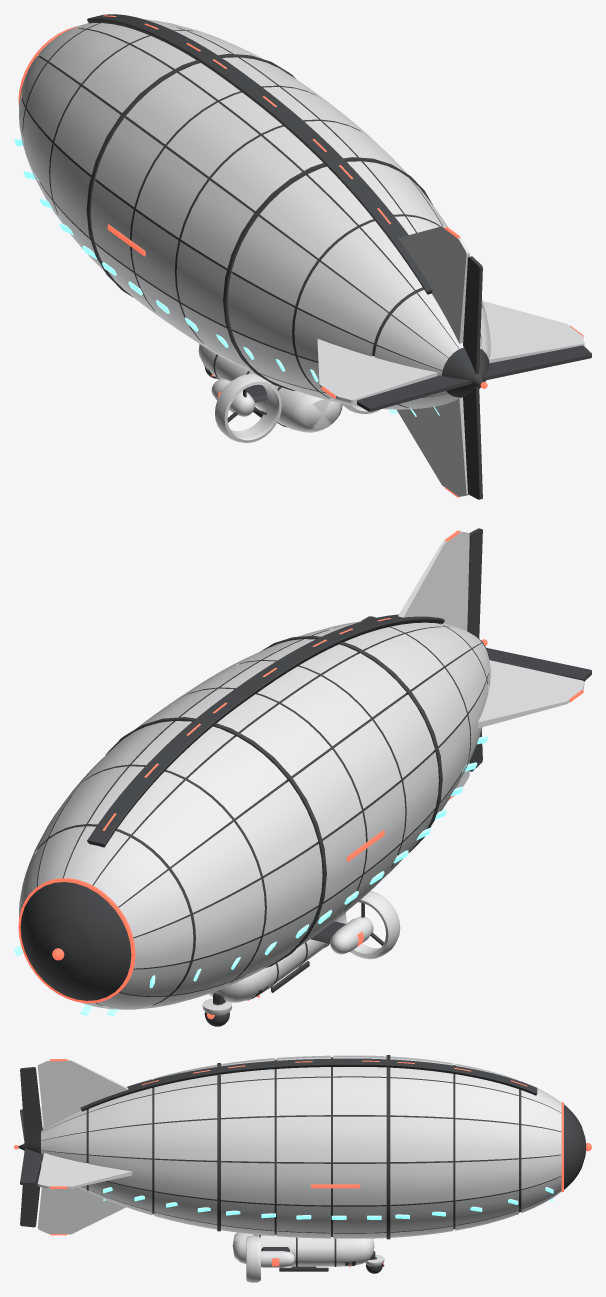
Rendered from dirigible.glb.
3 views of the same model, one above another, from view 1: azimuth 30°, elevation 25°; view 2: azimuth 150°, elevation 25°; view 3: azimuth 270°, elevation 25° (orthographic). The views are drawn at different scales.
Visible parts, largest first — view 1: cell_2, cell_1, cell_0, core; view 2: cell_0, cell_1, cell_2, core; view 3: cell_1, cell_2, cell_0, core.
Boxes of the visible parts, <box> form: cell_2: <box>228,157,591,499</box>; cell_1: <box>91,53,433,390</box>; cell_0: <box>14,14,295,297</box>; core: <box>198,344,380,442</box>; cell_0: <box>14,717,326,1015</box>; cell_1: <box>136,635,442,947</box>; cell_2: <box>297,528,591,819</box>; core: <box>208,891,400,1004</box>; cell_1: <box>217,1055,388,1238</box>; cell_2: <box>14,1059,219,1235</box>; cell_0: <box>386,1055,591,1239</box>; core: <box>232,1232,375,1282</box>.
Bounding box in the file's own units: 5.49 × 6.68 × 16.39.
